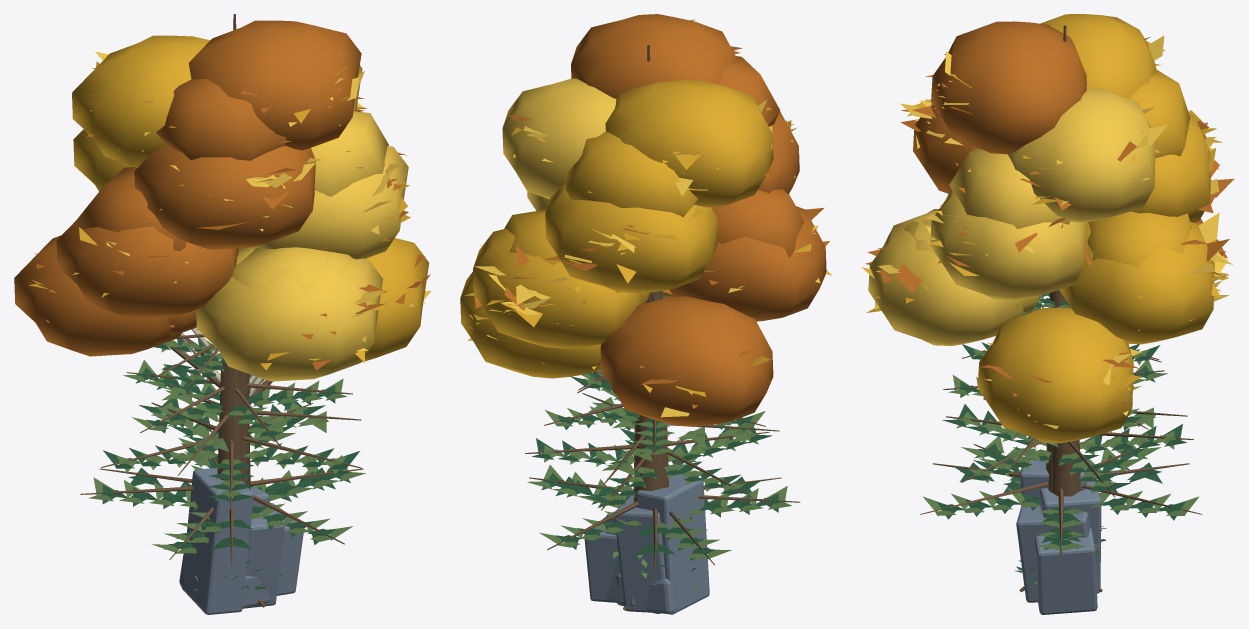
File: nature.glb
3 renders of one model, left to right at view 1: azimuth 30°, elevation 25°; view 2: azimuth 150°, elevation 25°; view 3: azimuth 270°, elevation 25°, orthographic. The views are drawn at different scales.
Visible parts, largest first — view 1: oak, oak_low, pine, cliff, pine_low, birch, boulder; view 2: oak, oak_low, pine, cliff, pine_low, boulder; view 3: oak, pine, oak_low, cliff, pine_low.
Part boxes in pixels (box(x1,y1,x2,y2)): oak: box(14, 20, 430, 607); oak_low: box(73, 79, 388, 484); pine: box(80, 14, 365, 559); cliff: box(181, 468, 303, 614); pine_low: box(99, 14, 361, 565); birch: box(144, 54, 358, 396); boulder: box(179, 553, 269, 609); oak: box(460, 14, 832, 614); oak_low: box(504, 56, 804, 489); pine: box(525, 45, 800, 565); cliff: box(584, 474, 709, 614); pine_low: box(555, 45, 781, 570); boulder: box(616, 573, 677, 614); oak: box(861, 14, 1234, 592); pine: box(920, 26, 1202, 557); oak_low: box(904, 69, 1208, 492); cliff: box(1016, 456, 1101, 614); pine_low: box(932, 25, 1189, 542).
Size of the model in its own units: 8.56 by 13.11 by 7.81.
